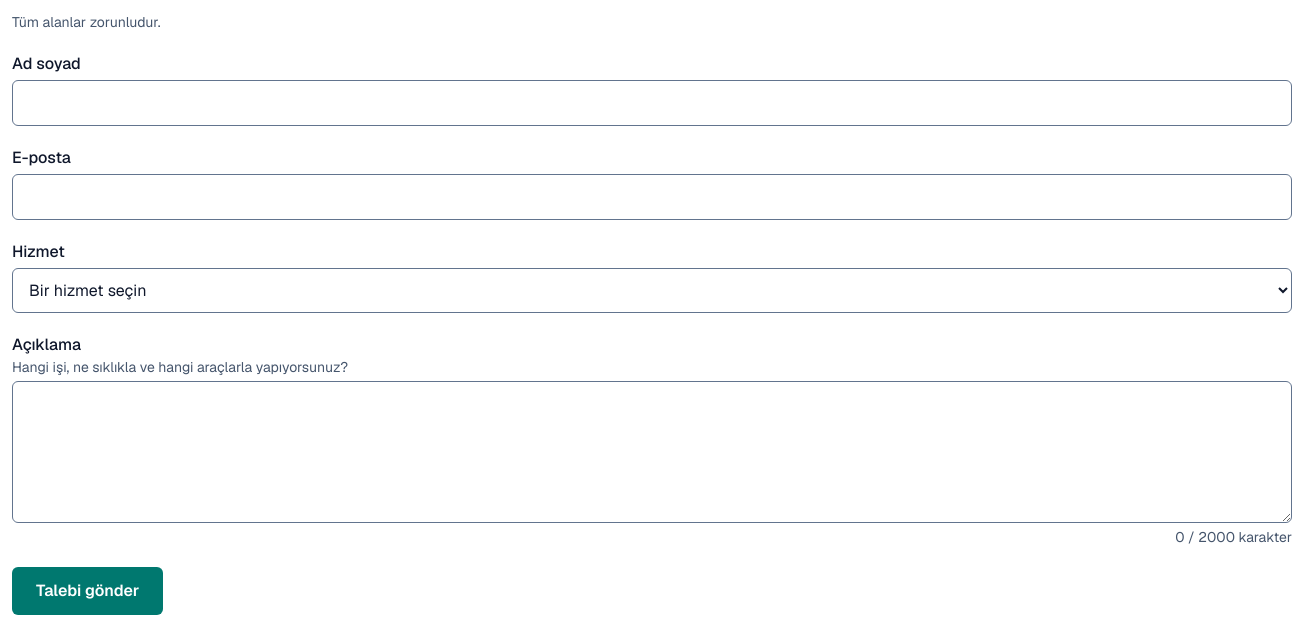
Test case: RequestForm › shows a sending state and ignores repeated clicks until the server answers
Step 1. Type "Ayşe Yılmaz" into the field labelled "Ad soyad" → coordinates (652, 103), box [12, 80, 1292, 126]
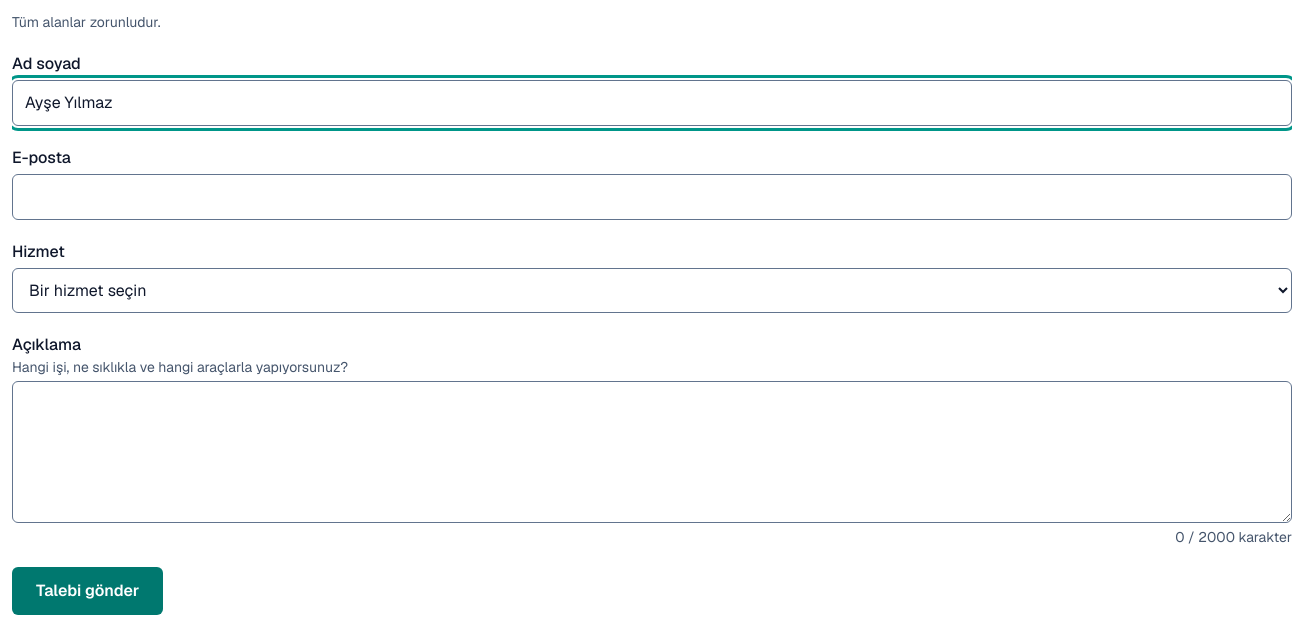
Step 2. Type "Ayse@Ornek.com" into the field labelled "E-posta" → coordinates (652, 197), box [12, 174, 1292, 220]
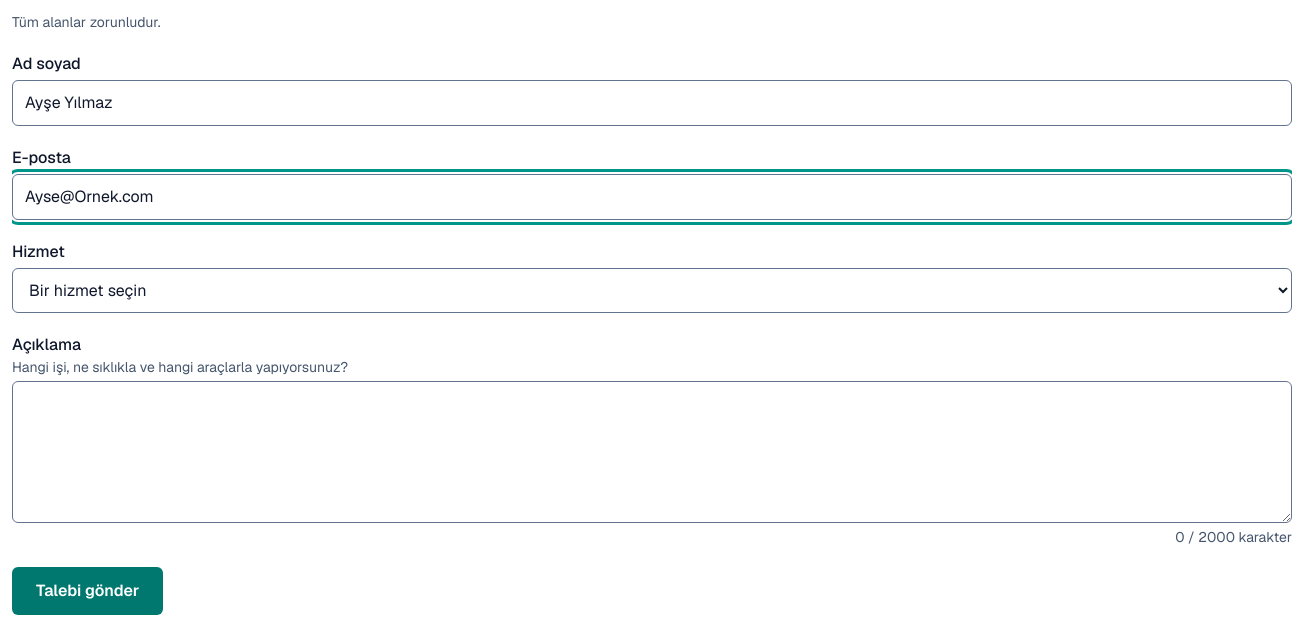
Step 3. Select "Fatura ve belge otomasyonu" in the dropdown labelled "Hizmet" → coordinates (652, 290), box [12, 268, 1292, 313]
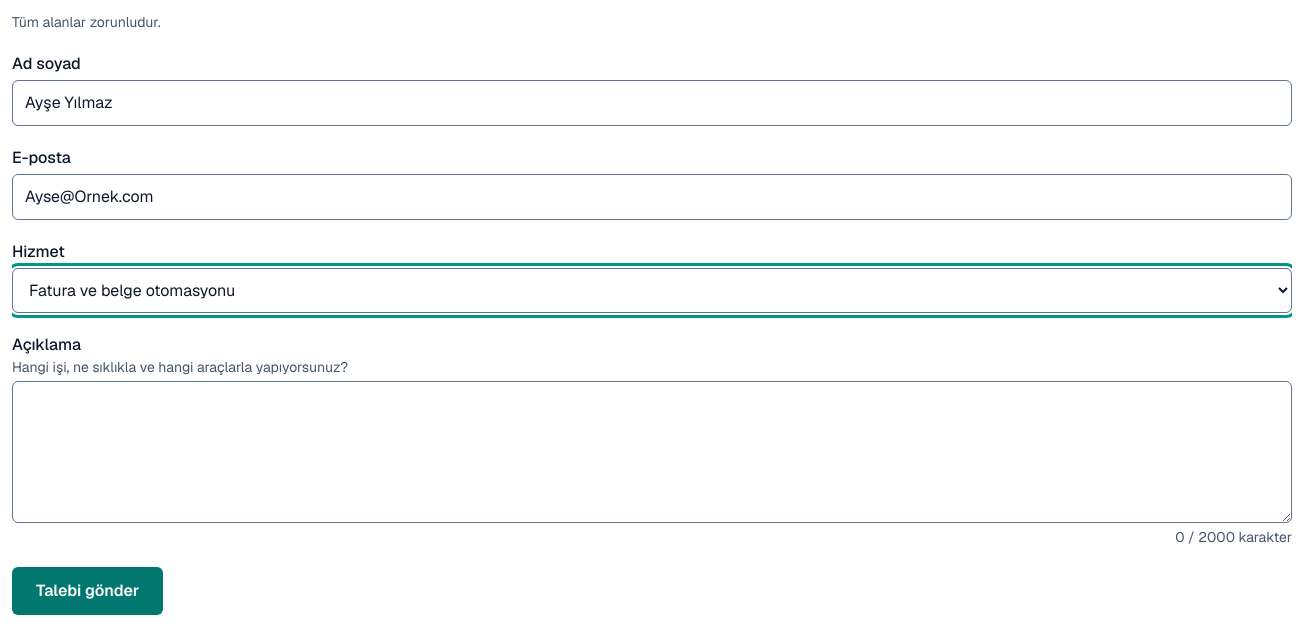
Step 4. Type "Aylık 200 faturayı elle giriyoruz." into the text box labelled "Açıklama" → coordinates (652, 452), box [12, 381, 1292, 523]
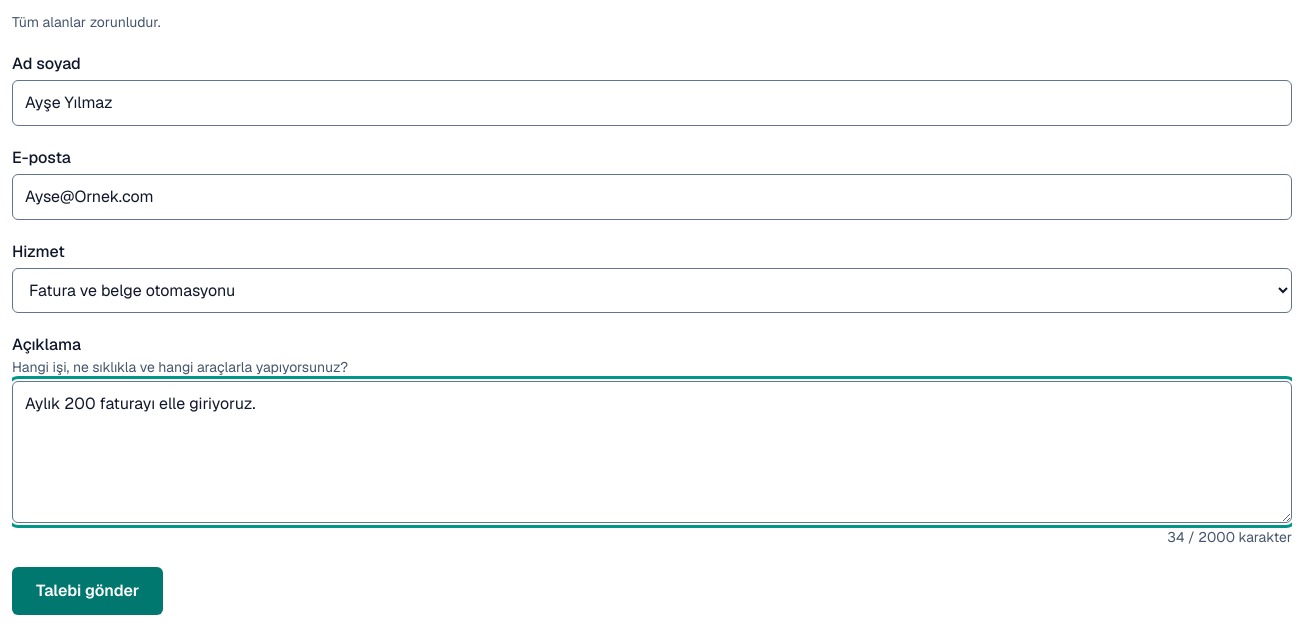
Step 5. Click the button "Talebi gönder" → coordinates (88, 591), box [12, 567, 163, 615]
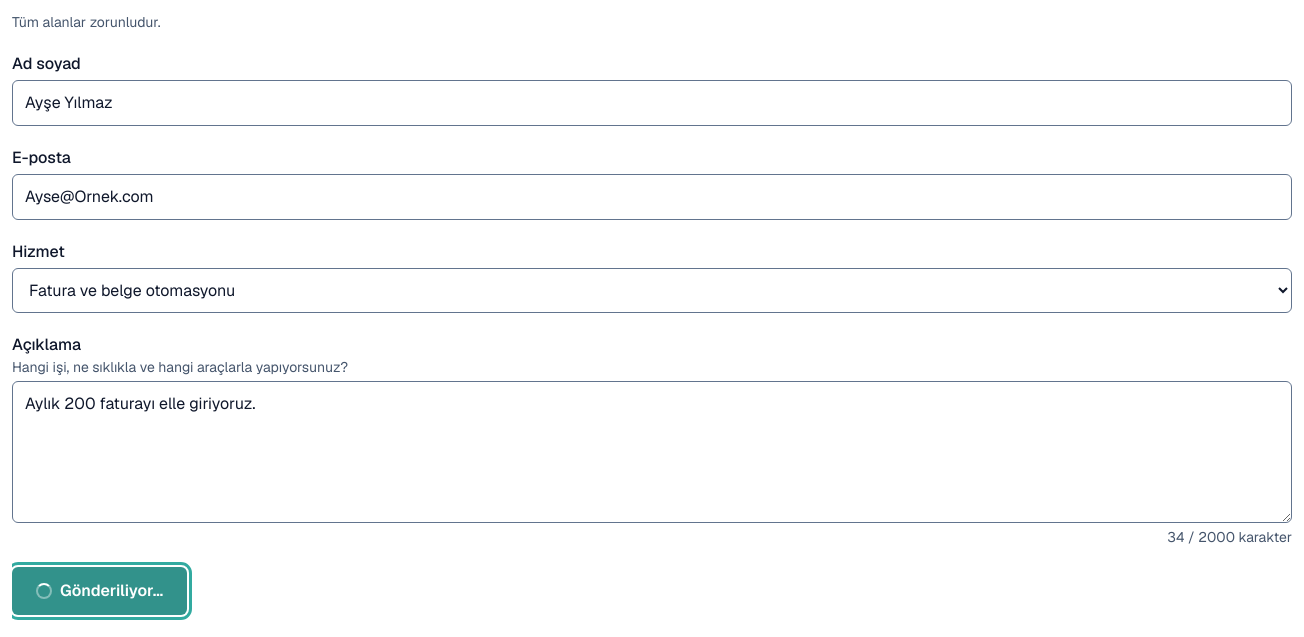
Check: the button "Gönderiliyor…" is shown
Step 6. Click the button "Gönderiliyor…" → coordinates (100, 591), box [12, 567, 187, 615]
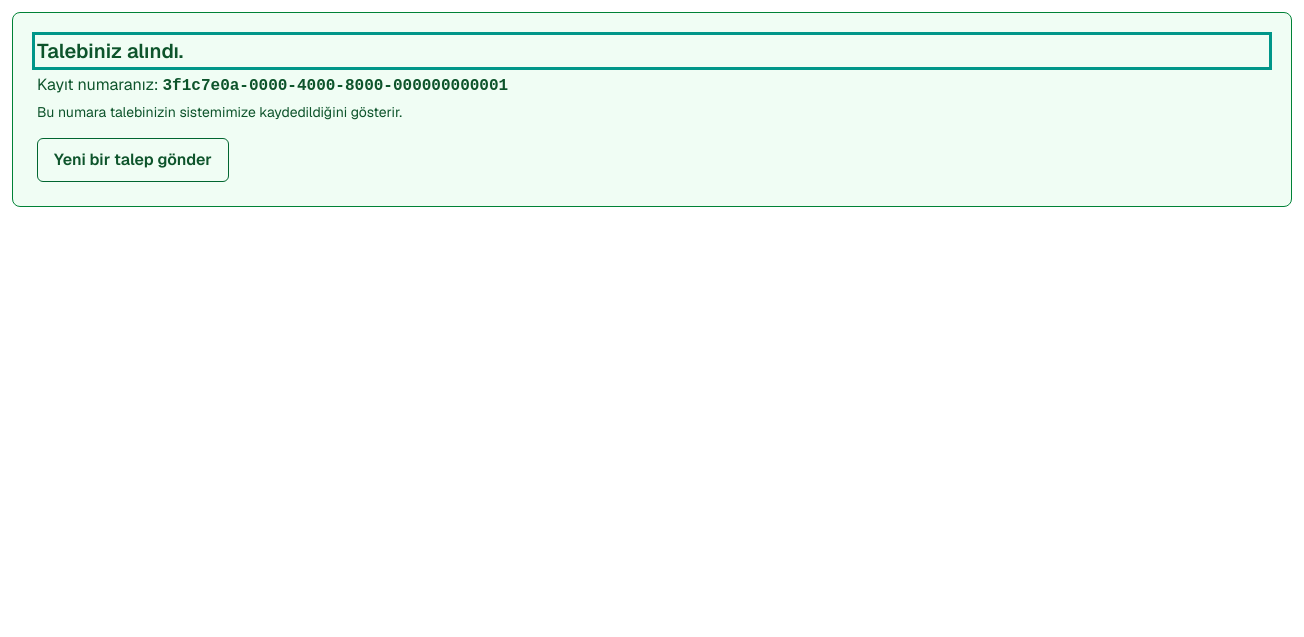
Check: the message shows "3f1c7e0a-0000-4000-8000-000000000001", box [162, 77, 508, 95]
